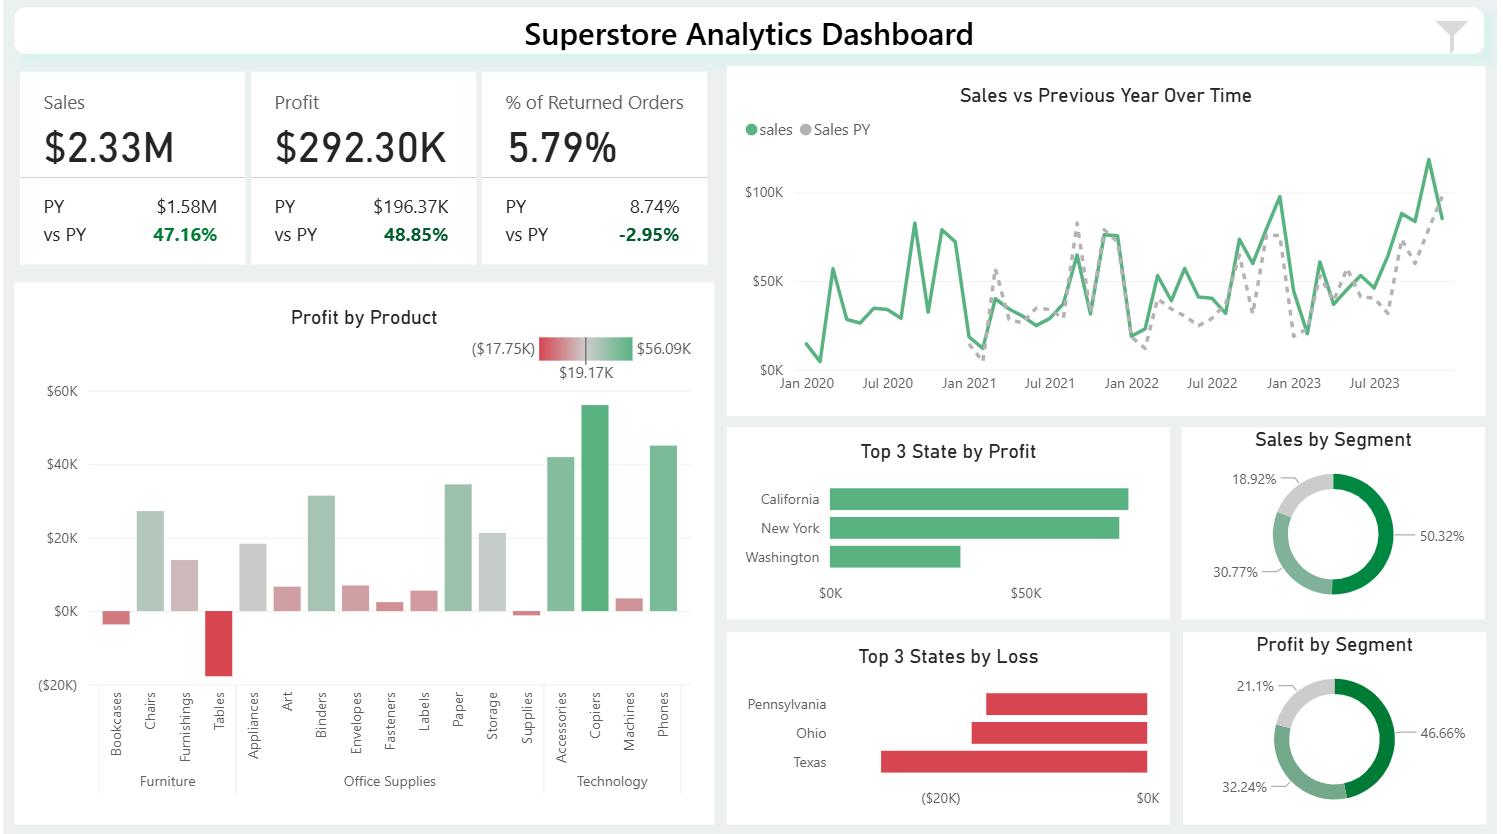

The dashboard page shown, as its layout file describes it:
{"tool":"powerbi","page":{"name":"Report page","canvas":[1280,720],"ordinal":0},"visuals":[{"type":"image","title":"filter","box":[1217.6,10.9,50,50],"z":0,"group":"g1"},{"type":"cardVisual","fields":{"Data":["Key Measures.sales","Key Measures.profit","Key Measures.% of Returned Orders"]},"box":[10,60,600,175],"z":0},{"type":"shape","box":[10,10,1260,40],"z":1000},{"type":"lineChart","title":"Sales vs Previous Year Over Time","fields":{"Y":["Key Measures.sales","Key Measures.Sales PY"],"Category":["DateTable.Year-Month"]},"box":[620,60,650,300],"z":2000},{"type":"columnChart","title":"Profit by Product","fields":{"Category":["Orders.Category","Orders.Sub-Category"],"Y":["Key Measures.profit"]},"box":[10,245,600,465],"z":3000},{"type":"barChart","title":"Top 3 State by Profit","fields":{"Category":["Orders.State/Province"],"Y":["Key Measures.profit"]},"box":[620,370,380,165],"z":4000},{"type":"barChart","title":"Top 3 States by Loss","fields":{"Category":["Orders.State/Province"],"Y":["Key Measures.profit"]},"box":[620,545,380,165],"z":5000},{"type":"donutChart","title":"Sales by Segment","fields":{"Category":["Orders.Segment"],"Y":["Key Measures.sales"]},"box":[1010,370,260,164.5],"z":6000},{"type":"donutChart","title":"Profit by Segment","fields":{"Category":["Orders.Segment"],"Y":["Key Measures.profit"]},"box":[1010.9,545,260,164.5],"z":7000},{"type":"group","id":"g1","title":"slicer","box":[433.1,10.9,834.5,709.7],"z":8000}]}

Visuals, with their boxes in screenshot pixels (x1, y1, x2, y2), scaled from the page's 1280x720 canvas onto the 1503x834 screenshot:
"filter" image: (1430,13,1488,71)
cardVisual - Key Measures.sales x Key Measures.profit: (12,70,716,272)
shape: (12,12,1491,58)
"Sales vs Previous Year Over Time" lineChart: (728,70,1491,417)
"Profit by Product" columnChart: (12,284,716,822)
"Top 3 State by Profit" barChart: (728,429,1174,620)
"Top 3 States by Loss" barChart: (728,631,1174,822)
"Sales by Segment" donutChart: (1186,429,1491,619)
"Profit by Segment" donutChart: (1187,631,1492,822)
"slicer" group: (509,13,1488,833)
